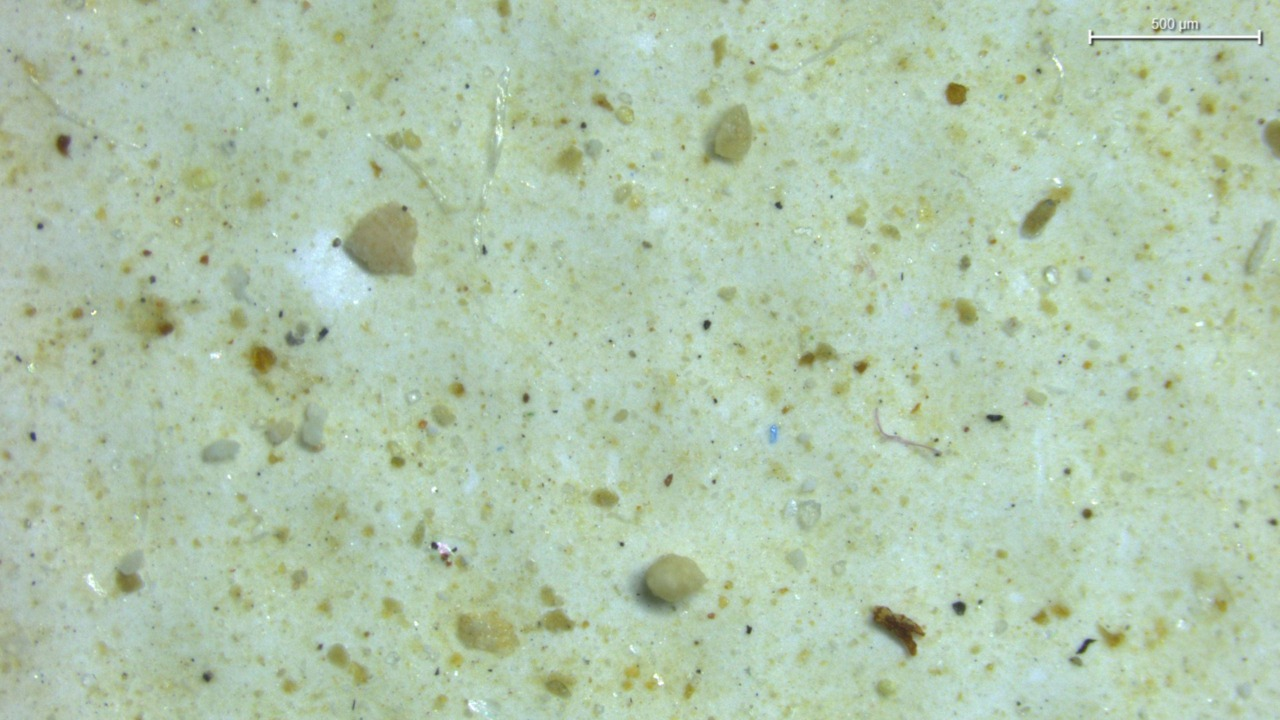microplastic_fragment: (343, 203, 417, 275), (645, 554, 707, 604), (706, 105, 754, 163), (300, 403, 326, 449), (201, 439, 240, 463), (265, 420, 295, 445)
